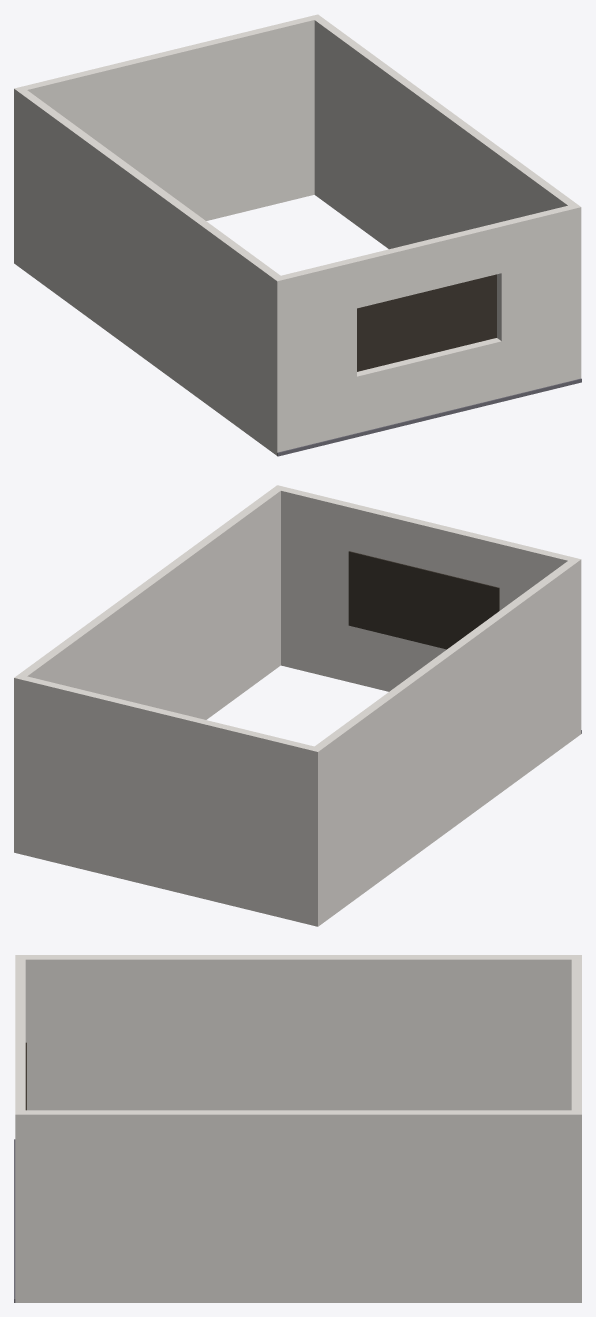
File: SM_Floor_NarrowUpperWindow_White_546_01.gltf
3 views of the same model, one above another, from view 1: azimuth 30°, elevation 25°; view 2: azimuth 150°, elevation 25°; view 3: azimuth 270°, elevation 25° (orthographic). The views are drawn at different scales.
Parts seen in each view (by area): view 1: SM_Floor_NarrowUpperWindow_White_546_01; view 2: SM_Floor_NarrowUpperWindow_White_546_01; view 3: SM_Floor_NarrowUpperWindow_White_546_01.
Boxes of the visible parts, bbox=[...] form: SM_Floor_NarrowUpperWindow_White_546_01: bbox=[14, 14, 581, 456]; SM_Floor_NarrowUpperWindow_White_546_01: bbox=[14, 485, 581, 926]; SM_Floor_NarrowUpperWindow_White_546_01: bbox=[14, 955, 581, 1302].
Size of the model in its own units: 5.46 by 3 by 8.21.
Materials: 1 (1 with a texture image).
